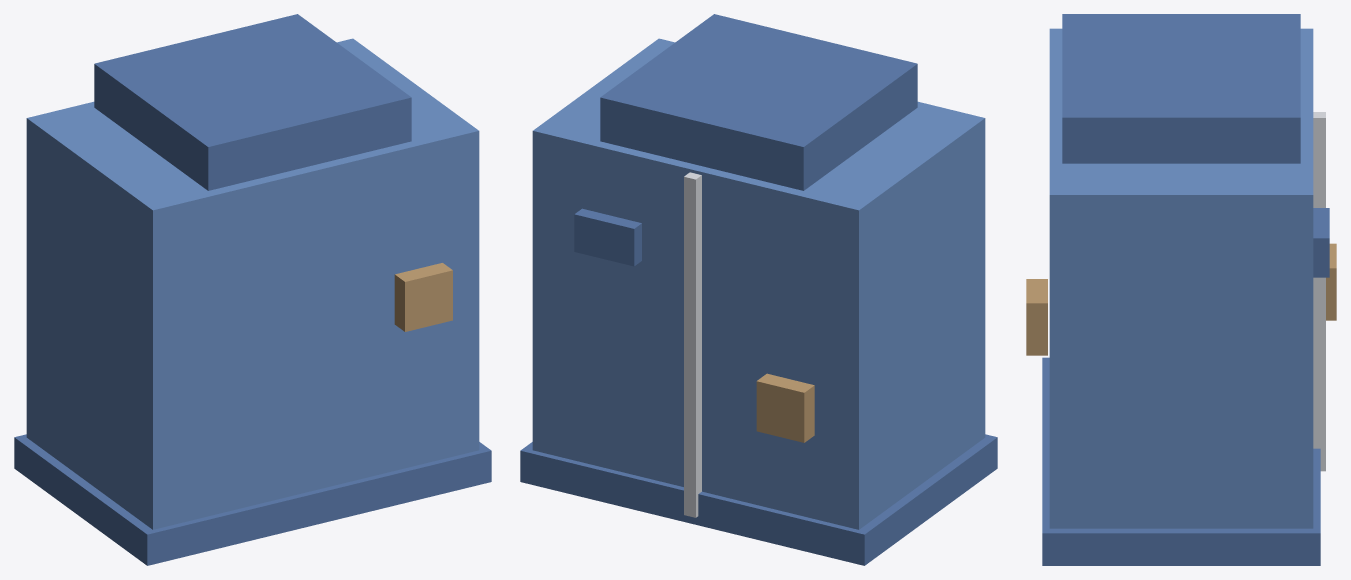
Rendered from macacao_tronco.glb.
3 views of the same model, side by side, from view 1: azimuth 30°, elevation 25°; view 2: azimuth 150°, elevation 25°; view 3: azimuth 270°, elevation 25° (orthographic). The views are drawn at different scales.
Parts seen in each view (by area): view 1: macacao_tronco; view 2: macacao_tronco; view 3: macacao_tronco.
Boxes of the visible parts, x1,y1,x2,y2 form: macacao_tronco: [14, 14, 491, 565]; macacao_tronco: [520, 14, 997, 565]; macacao_tronco: [1026, 14, 1336, 565].
Bounding box in the file's own units: 0.575 × 0.63 × 0.43.
